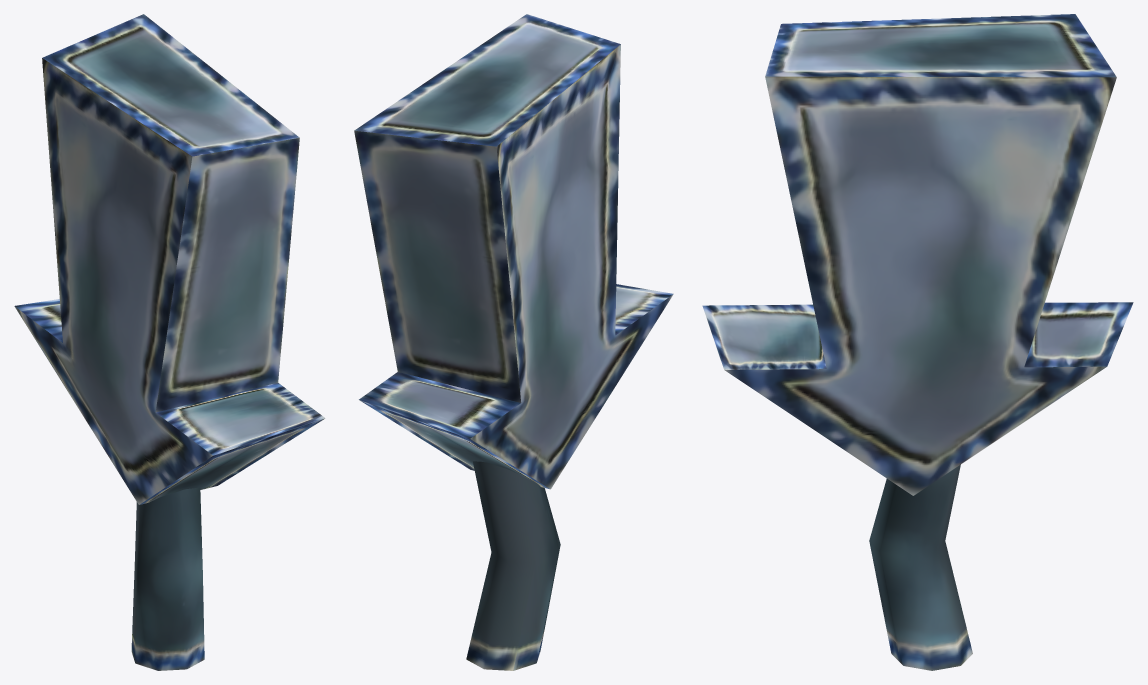
Rendered from signdown.dae.
3 renders of one model, left to right at view 1: azimuth 30°, elevation 25°; view 2: azimuth 150°, elevation 25°; view 3: azimuth 270°, elevation 25°, orthographic. The views are drawn at different scales.
Visible parts, largest first — view 1: signdown; view 2: signdown; view 3: signdown.
Part boxes in pixels (x1,y1,x2,y2): signdown: (14,14,325,670); signdown: (354,14,673,670); signdown: (702,14,1133,670).
Bounding box in the file's own units: 0.3359 × 0.9481 × 1.48.
